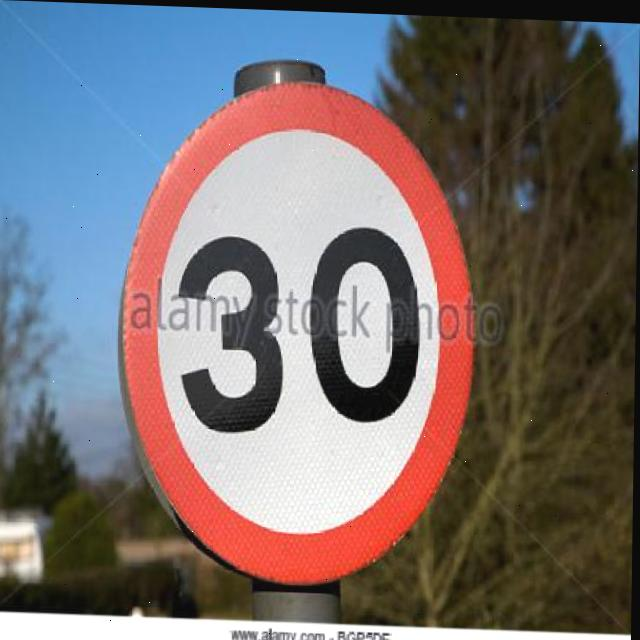Speed limit 30: (113, 64, 487, 592)
